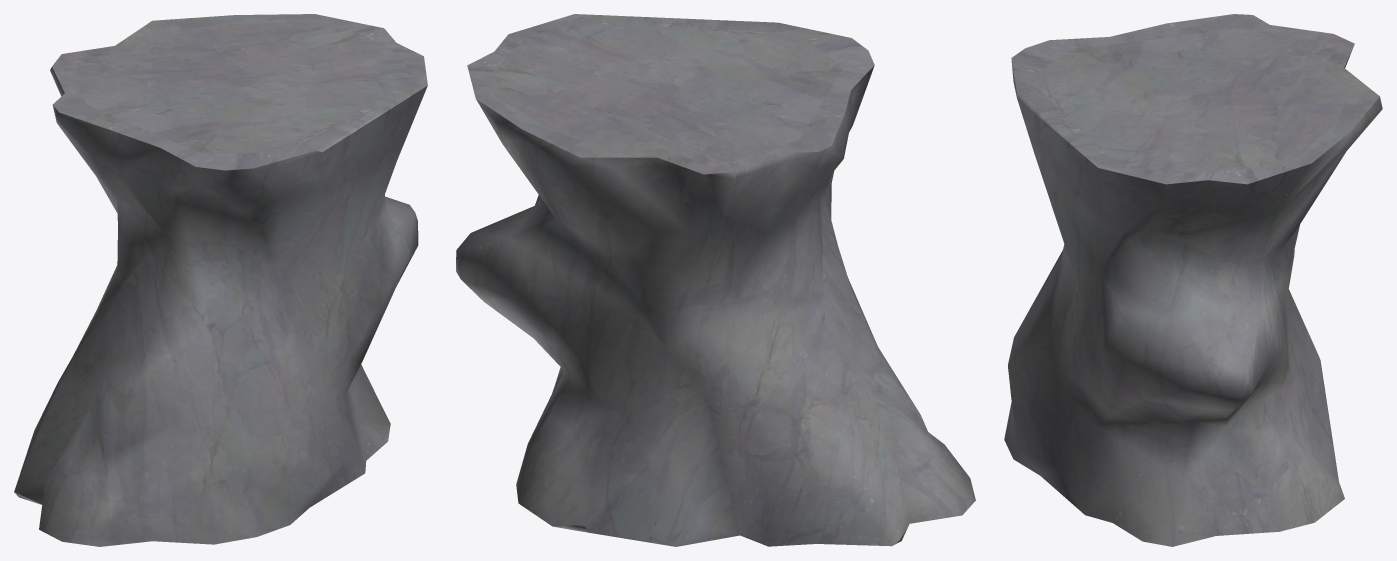
The model's file is Stages_MD_SDLStone03.fbx.
3 renders of one model, left to right at view 1: azimuth 30°, elevation 25°; view 2: azimuth 150°, elevation 25°; view 3: azimuth 270°, elevation 25°, orthographic. The views are drawn at different scales.
Parts seen in each view (by area): view 1: Stages_MD_SDLStone03_Lod1; view 2: Stages_MD_SDLStone03_Lod1; view 3: Stages_MD_SDLStone03_Lod1.
Part boxes in pixels (x1,y1,x2,y2): Stages_MD_SDLStone03_Lod1: (14,14,427,546); Stages_MD_SDLStone03_Lod1: (456,14,975,546); Stages_MD_SDLStone03_Lod1: (1004,14,1382,546).
Bounding box in the file's own units: 45.12 × 37.93 × 33.9.
Materials: 1 (1 with a texture image).
